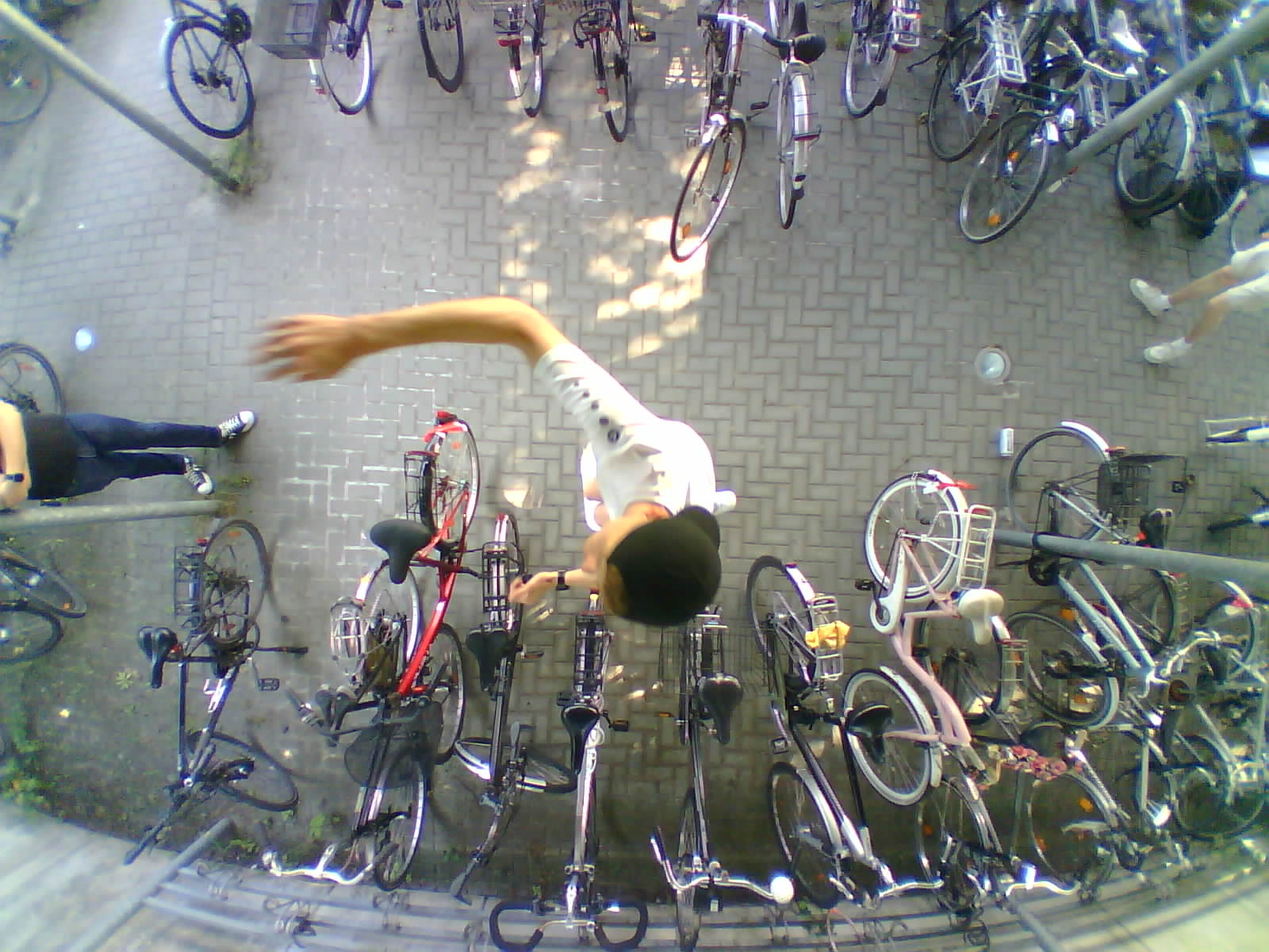bicylce: (999, 409, 1158, 724), (1083, 547, 1256, 832), (840, 462, 981, 800), (751, 554, 874, 904), (155, 518, 273, 842), (1033, 588, 1152, 908), (326, 556, 437, 888), (658, 571, 749, 952), (377, 398, 470, 757), (929, 587, 1015, 914), (470, 513, 543, 886), (555, 572, 622, 947), (977, 0, 1072, 250)
saddle: (372, 518, 429, 585), (698, 670, 746, 748), (771, 0, 827, 65), (845, 698, 898, 763), (309, 679, 357, 750), (958, 589, 1007, 650), (466, 630, 512, 693), (136, 626, 175, 693), (560, 704, 598, 772), (1106, 11, 1150, 61), (1140, 501, 1179, 556), (1153, 697, 1184, 760), (1204, 638, 1228, 685), (1246, 79, 1269, 119)
